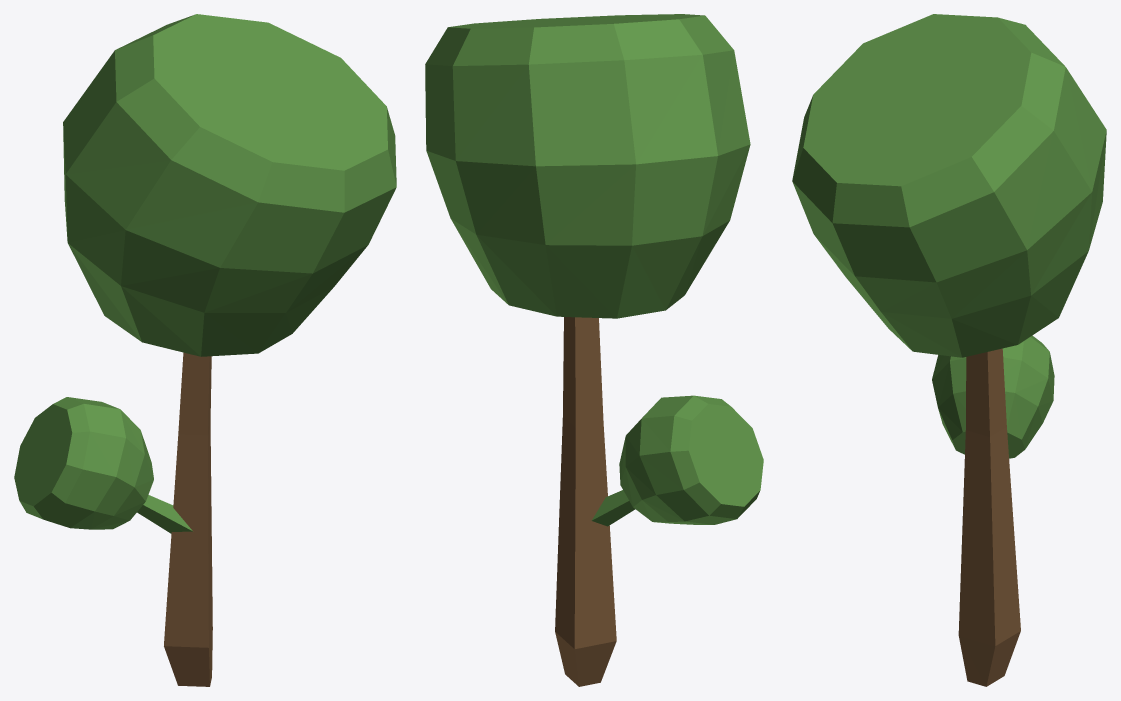
The model's file is tree3d-018.glb.
The picture shows the model from 3 angles, left to right: view 1: azimuth 30°, elevation 25°; view 2: azimuth 150°, elevation 25°; view 3: azimuth 270°, elevation 25°; orthographic projection. The views are drawn at different scales.
Visible parts, largest first — view 1: tree3d-018; view 2: tree3d-018; view 3: tree3d-018.
Boxes of the visible parts, x1,y1,x2,y2 form: tree3d-018: [14, 14, 396, 686]; tree3d-018: [425, 14, 763, 686]; tree3d-018: [792, 14, 1106, 686].
Bounding box in the file's own units: 0.529 × 1 × 0.4428.
